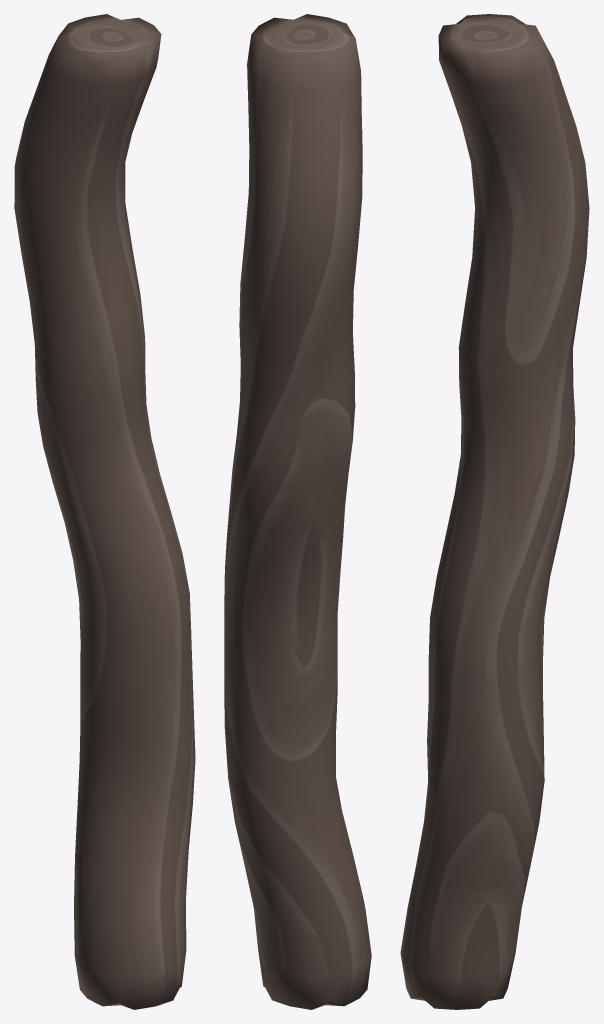
Rendered from MineBeam2.fbx.
The picture shows the model from 3 angles, left to right: view 1: azimuth 30°, elevation 25°; view 2: azimuth 150°, elevation 25°; view 3: azimuth 270°, elevation 25°; orthographic projection. The views are drawn at different scales.
Parts seen in each view (by area): view 1: MineBeam2; view 2: MineBeam2; view 3: MineBeam2.
Boxes of the visible parts, <box> form: MineBeam2: <box>14,14,195,1009</box>; MineBeam2: <box>224,14,371,1009</box>; MineBeam2: <box>400,14,589,1009</box>.
Bounding box in the file's own units: 43.41 × 273 × 49.06.
Materials: 1 (1 with a texture image).
